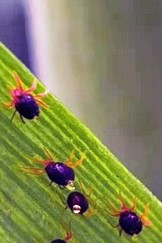Wheat Red Spider: (3, 69, 49, 134), (103, 189, 155, 239)
